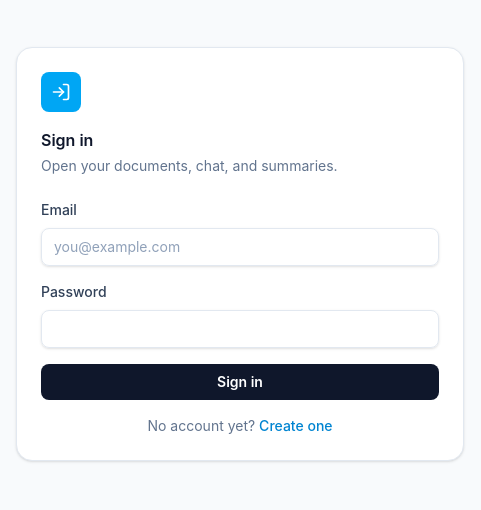
Test: LoginPage › recovers from an unexpected failure
This screenshot has width=481, height=510.
In the field labelled "Email": (240, 247) [41,228,439,266], type "ada@example.com"
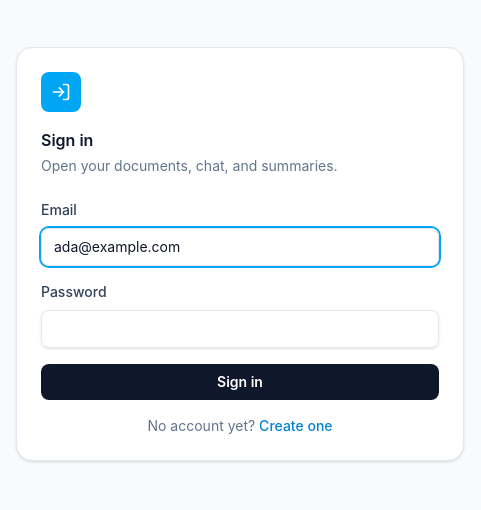
In the password field labelled "Password": (240, 329) [41,310,439,348], type "correct-horse"
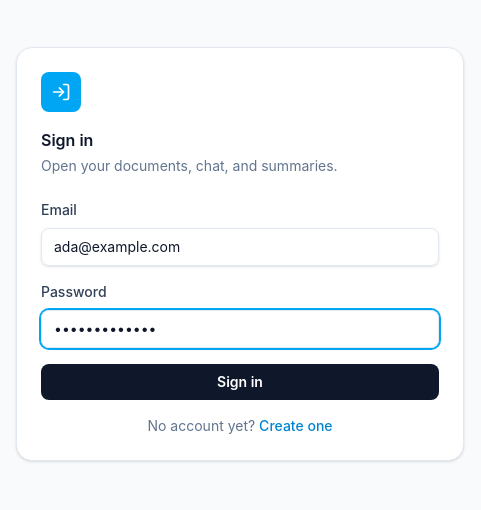
Click the button "Sign in": (240, 382) [41,364,439,400]
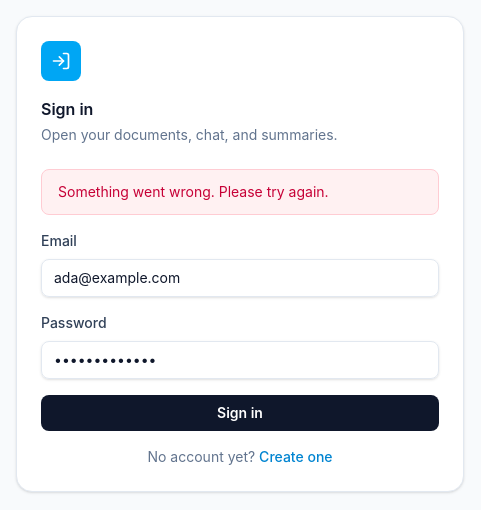
expect the message reads "Something went wrong. Please try again.": met, box [58,183,329,200]
